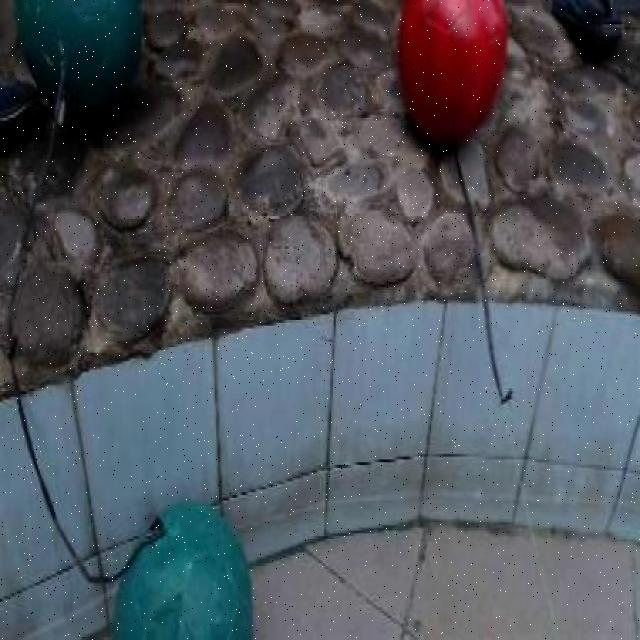buoy: (113, 499, 255, 639), (396, 0, 506, 142), (14, 0, 141, 107)
